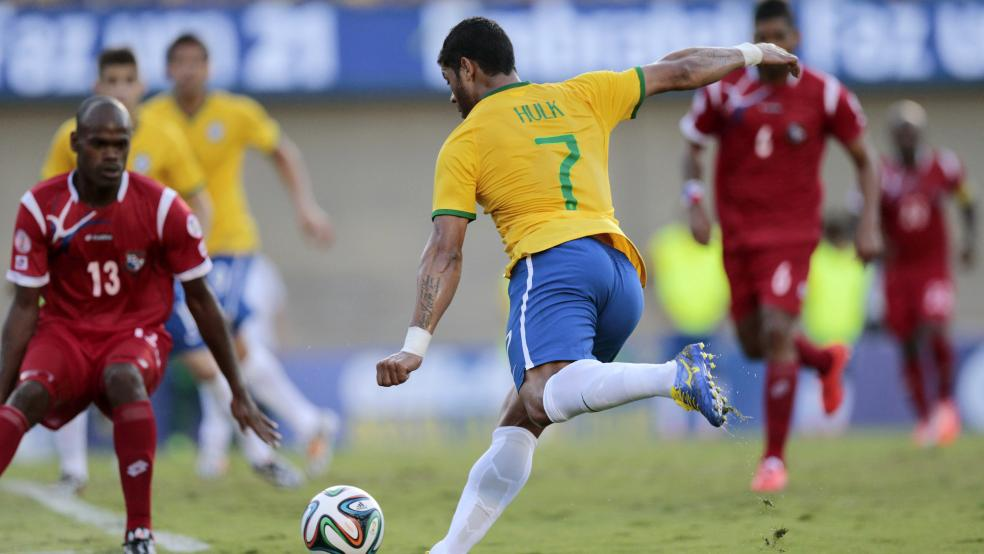football: (297, 480, 388, 554)
